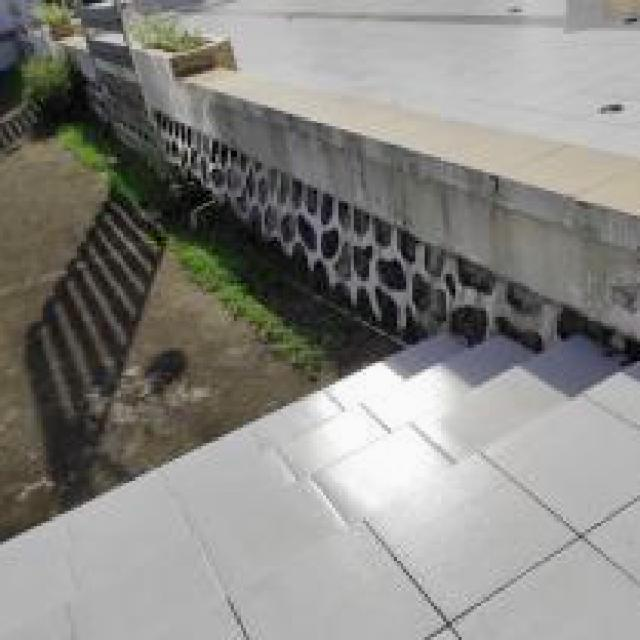downstair: (35, 333, 629, 640)
